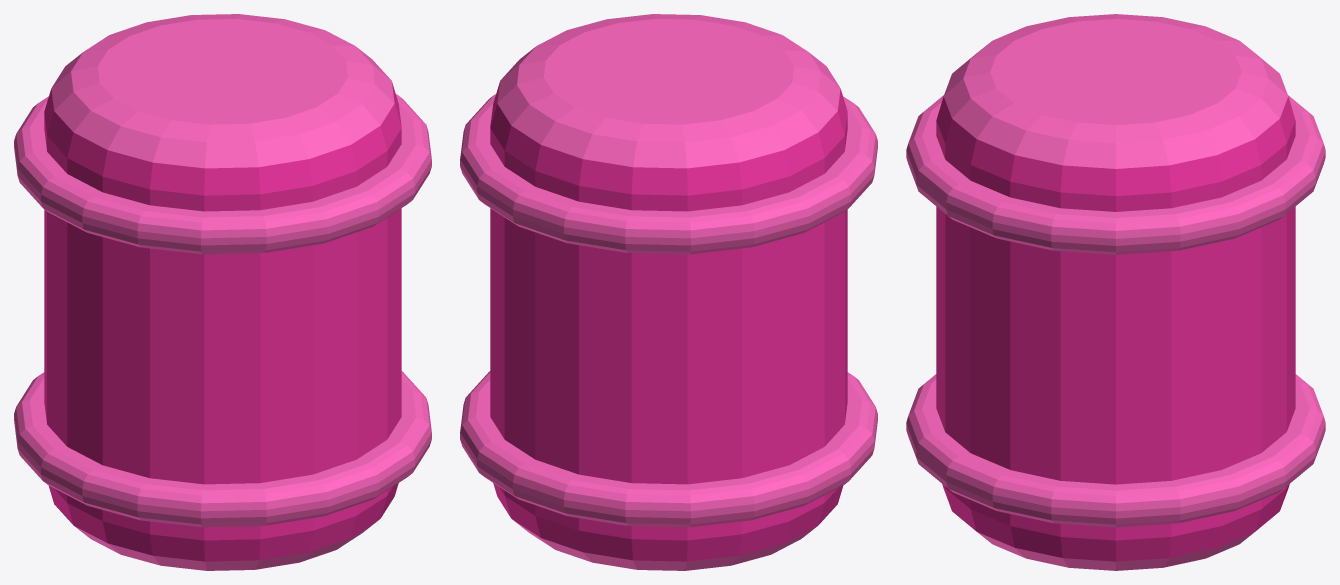
The model's file is Building_024_a.fbx.
The picture shows the model from 3 angles, left to right: view 1: azimuth 30°, elevation 25°; view 2: azimuth 150°, elevation 25°; view 3: azimuth 270°, elevation 25°; orthographic projection.
Visible parts, largest first — view 1: Building_024_a; view 2: Building_024_a; view 3: Building_024_a.
Boxes of the visible parts, bbox=[...] form: Building_024_a: bbox=[14, 14, 431, 570]; Building_024_a: bbox=[460, 14, 877, 570]; Building_024_a: bbox=[906, 14, 1325, 570].
Bounding box in the file's own units: 14.25 × 16.52 × 14.25.
